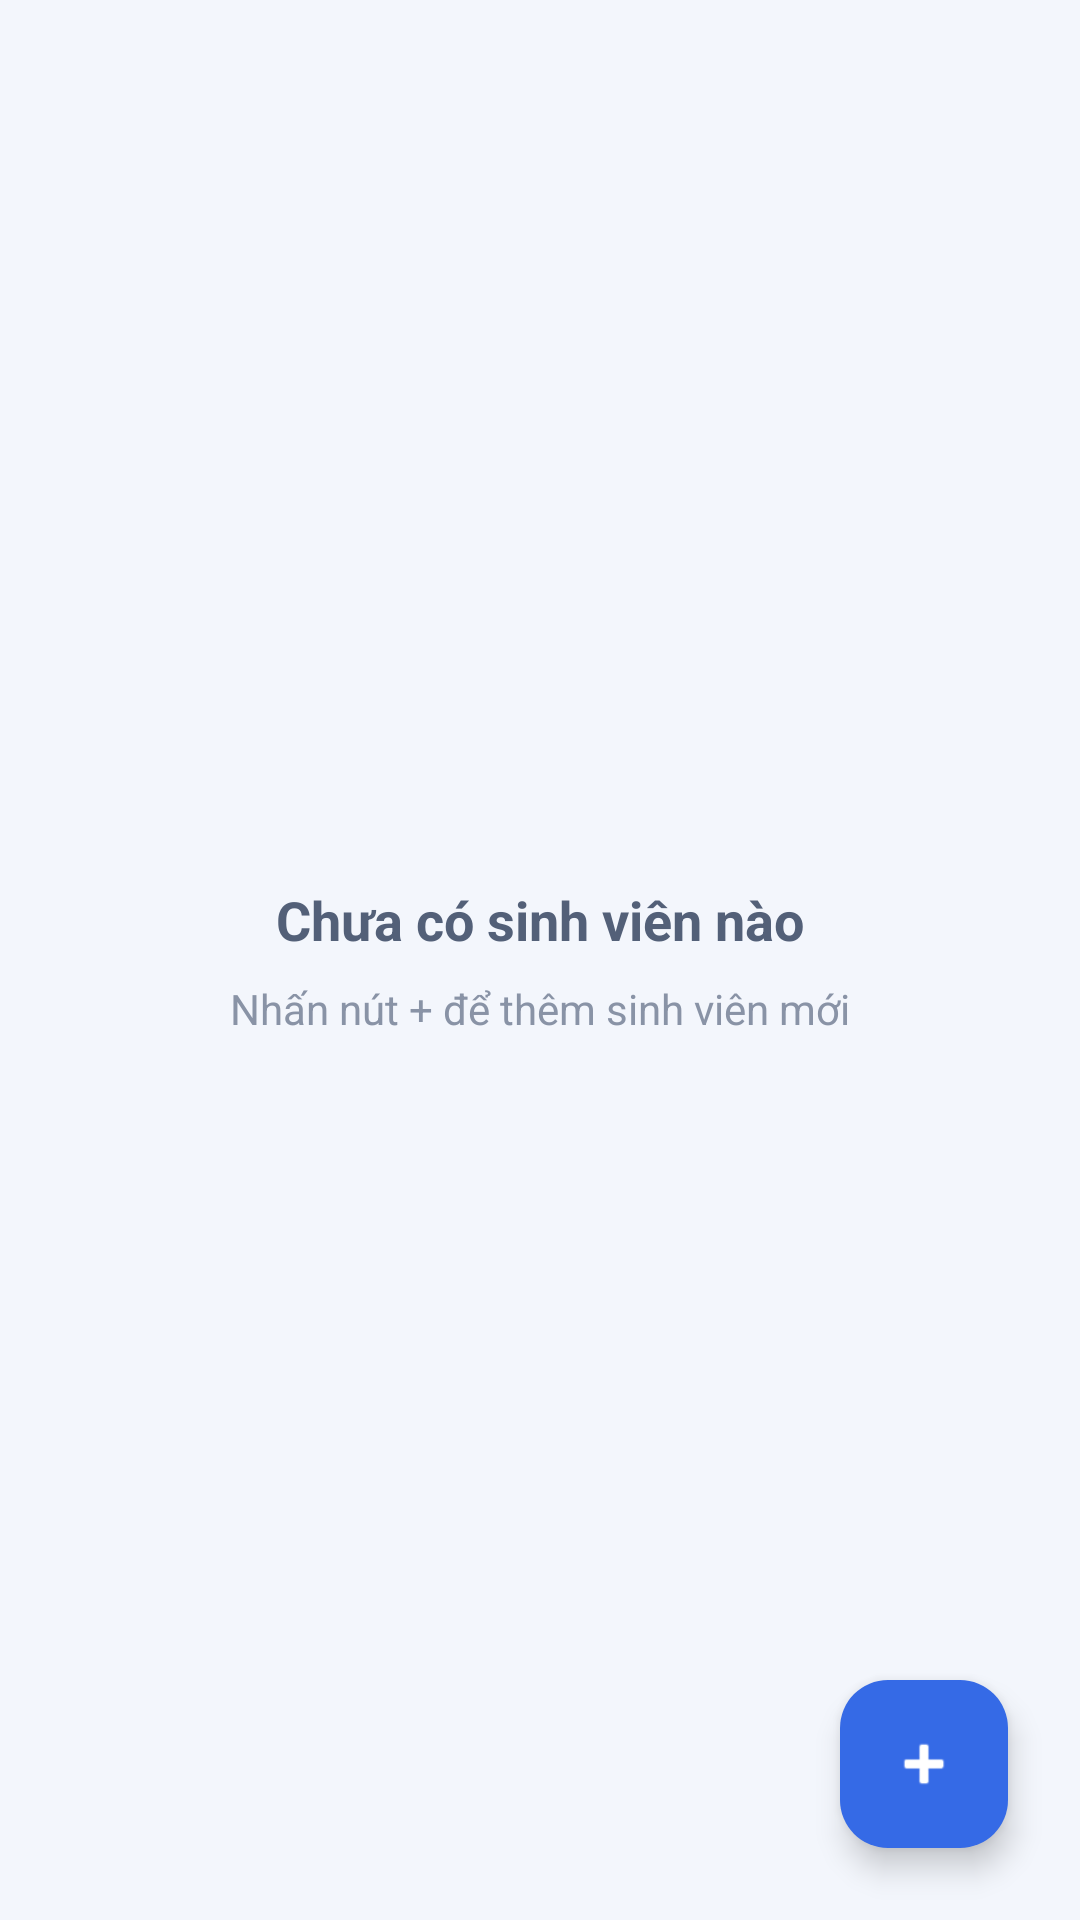

Icons on this 1080px x 1920px Android screen, each with its box as [left=x1, top=y1, right=x2, bottom=y2]:
Thêm sinh viên: [left=840, top=1680, right=1008, bottom=1848]
